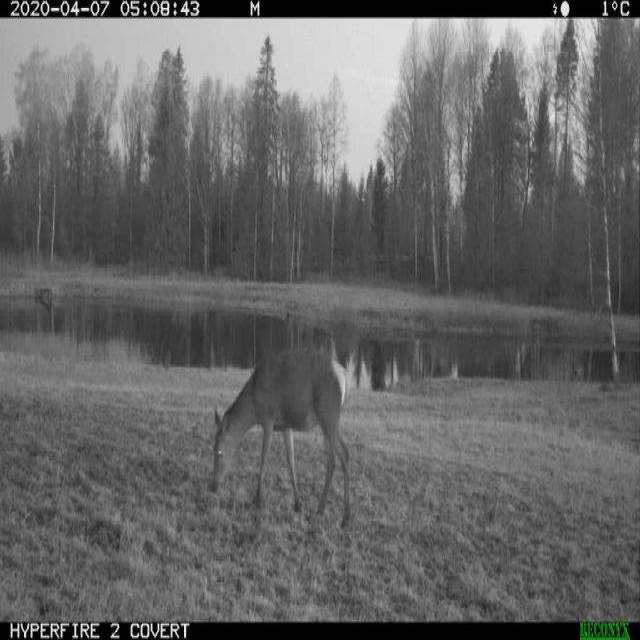deer: (209, 343, 357, 534)
